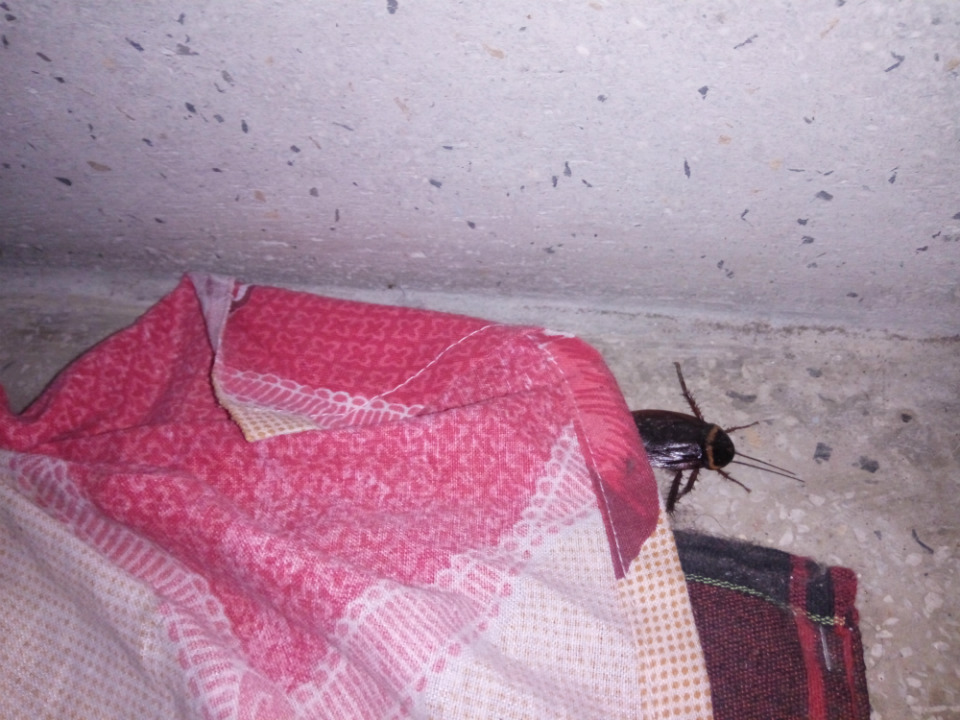cockroach: (530, 289, 793, 524)
